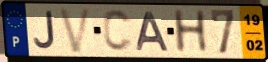7: (208, 8, 237, 56)
A: (135, 10, 171, 53)
C: (101, 8, 134, 54)
H: (171, 8, 211, 55)
J: (32, 10, 57, 51)
V: (57, 6, 94, 54)
